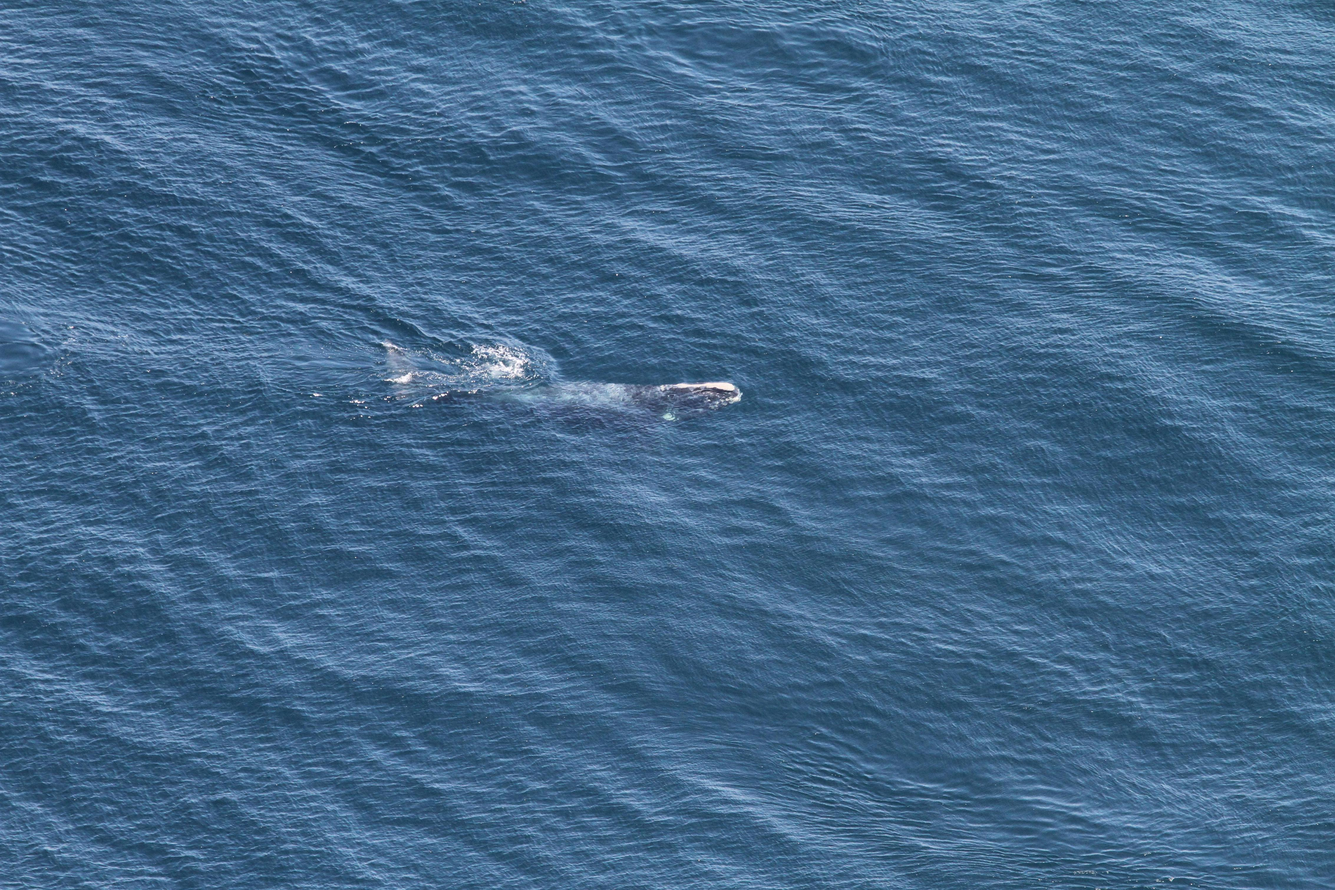whale: (369, 320, 753, 478)
